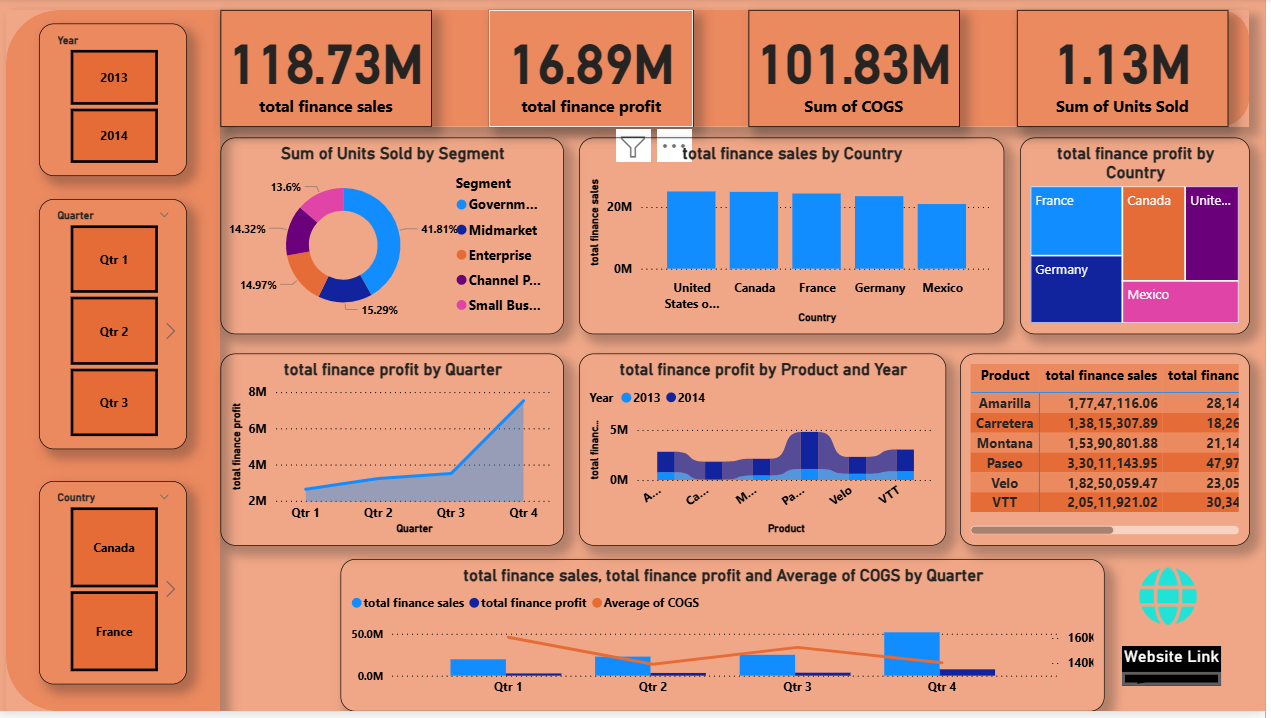

This screenshot's page, from the dashboard's own definition file:
{"tool":"powerbi","page":{"name":"summary","canvas":[1280,720],"ordinal":0},"visuals":[{"type":"shape","box":[9.5,12.7,216.3,707.8],"z":0},{"type":"shape","box":[225.9,12.7,1038.7,117.7],"z":1000},{"type":"card","fields":{"Values":["financials.total finance sales"]},"box":[225.9,12.7,213.1,117.7],"z":2000},{"type":"card","fields":{"Values":["financials.total finance profit"]},"box":[496.3,12.7,206.8,117.7],"z":3000},{"type":"card","fields":{"Values":["Sum(financials.COGS)"]},"box":[758.7,12.7,213.1,117.7],"z":4000},{"type":"card","fields":{"Values":["Sum(financials.Units Sold)"]},"box":[1029.1,12.7,213.1,117.7],"z":5000},{"type":"donutChart","fields":{"Y":["Sum(financials.Units Sold)"],"Category":["financials.Segment"]},"box":[225.9,141.6,346.8,198.8],"z":6000},{"type":"clusteredColumnChart","fields":{"Category":["financials.Country"],"Y":["financials.total finance sales"]},"box":[586.9,141.6,429.5,198.8],"z":7000},{"type":"treemap","fields":{"Group":["financials.Country"],"Values":["financials.total finance profit"]},"box":[1032.3,141.6,232.2,198.8],"z":8000},{"type":"areaChart","fields":{"Category":["financials.Date.Variation.Date Hierarchy.Quarter"],"Y":["financials.total finance profit"]},"box":[225.9,359.5,346.8,194.1],"z":9000},{"type":"ribbonChart","fields":{"Category":["financials.Product"],"Y":["financials.total finance profit"],"Series":["financials.Date.Variation.Date Hierarchy.Year"]},"box":[586.9,359.5,370.6,194.1],"z":10000},{"type":"pivotTable","fields":{"Values":["financials.total finance sales","financials.total finance profit","Sum(financials.Units Sold)"],"Rows":["financials.Product"]},"box":[971.9,359.5,292.7,194.1],"z":11000},{"type":"lineClusteredColumnComboChart","fields":{"Y":["financials.total finance sales","financials.total finance profit"],"Y2":["Avg(financials.COGS)"],"Category":["financials.Date.Variation.Date Hierarchy.Quarter"]},"box":[346.8,566.3,771.4,154.3],"z":12000},{"type":"slicer","fields":{"Values":["financials.Date.Variation.Date Hierarchy.Year"]},"box":[42.9,25.4,149.5,154.3],"z":13000},{"type":"slicer","fields":{"Values":["financials.Date.Variation.Date Hierarchy.Quarter"]},"box":[42.9,203.6,149.5,252.9],"z":14000},{"type":"slicer","fields":{"Values":["financials.Country"]},"box":[42.9,488.3,149.5,205.2],"z":15000},{"type":"image","box":[1148.4,564.7,68.4,77.9],"z":16000},{"type":"actionButton","title":"Website Link","box":[1135.7,653.7,100.2,39.8],"z":17000}]}

Visuals, with their boxes in screenshot pixels (x1, y1, x2, y2), scaled from the page's 1280x720 canvas onto the 1271x718 screenshot:
shape: l=9, t=13, r=224, b=717
shape: l=224, t=13, r=1256, b=130
card - financials.total finance sales: l=224, t=13, r=436, b=130
card - financials.total finance profit: l=493, t=13, r=698, b=130
card - Sum(financials.COGS): l=753, t=13, r=965, b=130
card - Sum(financials.Units Sold): l=1022, t=13, r=1233, b=130
donutChart - Sum(financials.Units Sold) x financials.Segment: l=224, t=141, r=569, b=339
clusteredColumnChart - financials.Country x financials.total finance sales: l=583, t=141, r=1009, b=339
treemap - financials.Country x financials.total finance profit: l=1025, t=141, r=1256, b=339
areaChart - financials.Date.Variation.Date Hierarchy.Quarter x financials.total finance profit: l=224, t=359, r=569, b=552
ribbonChart - financials.Product x financials.total finance profit: l=583, t=359, r=951, b=552
pivotTable - financials.total finance sales x financials.total finance profit: l=965, t=359, r=1256, b=552
lineClusteredColumnComboChart - financials.total finance sales x financials.total finance profit: l=344, t=565, r=1110, b=717
slicer - financials.Date.Variation.Date Hierarchy.Year: l=43, t=25, r=191, b=179
slicer - financials.Date.Variation.Date Hierarchy.Quarter: l=43, t=203, r=191, b=455
slicer - financials.Country: l=43, t=487, r=191, b=692
image: l=1140, t=563, r=1208, b=641
"Website Link" actionButton: l=1128, t=652, r=1227, b=692
